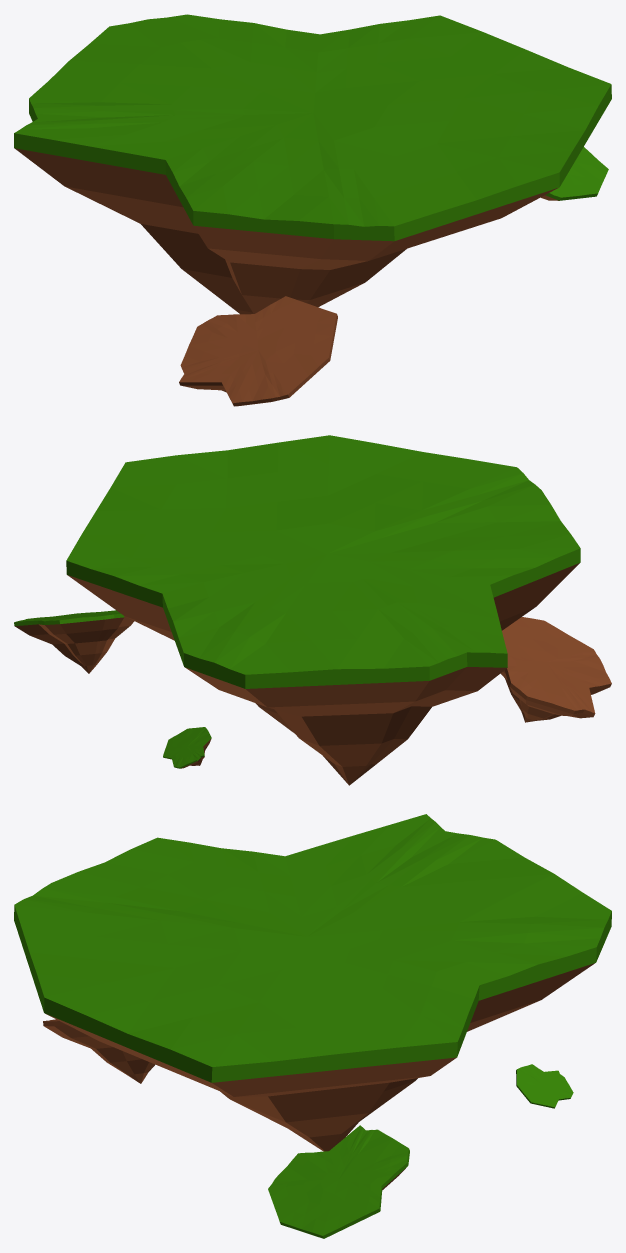
File: Low_Poly_Island.glb
3 renders of one model, top to bottom at view 1: azimuth 30°, elevation 25°; view 2: azimuth 150°, elevation 25°; view 3: azimuth 270°, elevation 25°, orthographic. The views are drawn at different scales.
Visible parts, largest first — view 1: Plane.002_Material.001_0, Plane.002_Material.002_0, Plane.002_Material.005_0; view 2: Plane.002_Material.001_0, Plane.002_Material.002_0, Plane.002_Material.005_0, Plane.002_Material.003_0, Plane.002_Material.006_0; view 3: Plane.002_Material.001_0, Plane.002_Material.002_0, Plane.002_Material.003_0, Plane.002_Material.006_0.
Part boxes in pixels (left/top/right/bottom): Plane.002_Material.001_0: left=14, top=14, right=611, bottom=241; Plane.002_Material.002_0: left=14, top=148, right=559, bottom=314; Plane.002_Material.005_0: left=179, top=296, right=337, bottom=406; Plane.002_Material.001_0: left=14, top=435, right=580, bottom=688; Plane.002_Material.002_0: left=15, top=563, right=579, bottom=785; Plane.002_Material.005_0: left=502, top=617, right=611, bottom=716; Plane.002_Material.003_0: left=163, top=727, right=211, bottom=768; Plane.002_Material.006_0: left=500, top=670, right=609, bottom=722; Plane.002_Material.001_0: left=14, top=814, right=611, bottom=1238; Plane.002_Material.002_0: left=46, top=963, right=594, bottom=1189; Plane.002_Material.003_0: left=516, top=1064, right=573, bottom=1108; Plane.002_Material.006_0: left=44, top=1025, right=155, bottom=1083.
Bounding box in the file's own units: 2.55 × 1.01 × 2.29.
